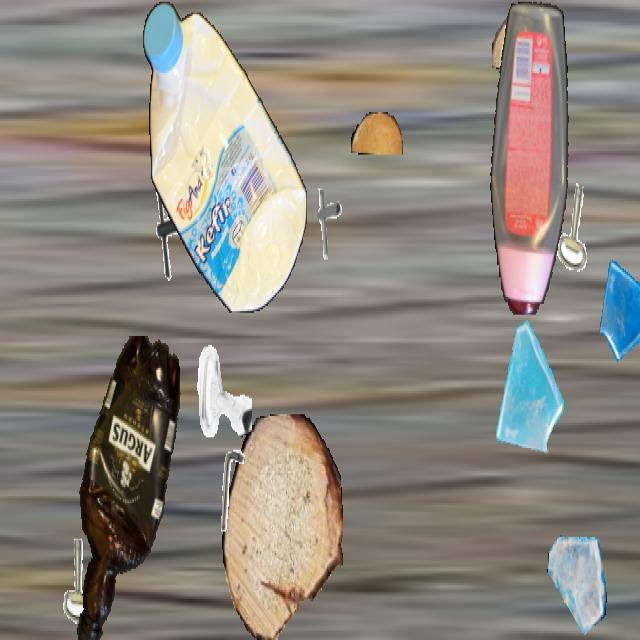glass: (485, 318, 565, 461), (547, 532, 607, 638), (597, 249, 640, 366)
metal: (145, 176, 205, 283), (194, 340, 252, 442), (53, 532, 109, 631), (549, 178, 605, 277), (207, 442, 261, 538), (305, 183, 349, 261)
plastic: (143, 2, 307, 311), (67, 336, 187, 638), (489, 2, 573, 314)
wood: (222, 414, 342, 638), (492, 16, 566, 73), (351, 112, 403, 155)
